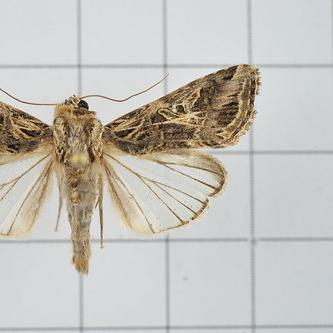Spodoptera litura: (1, 64, 263, 279)
